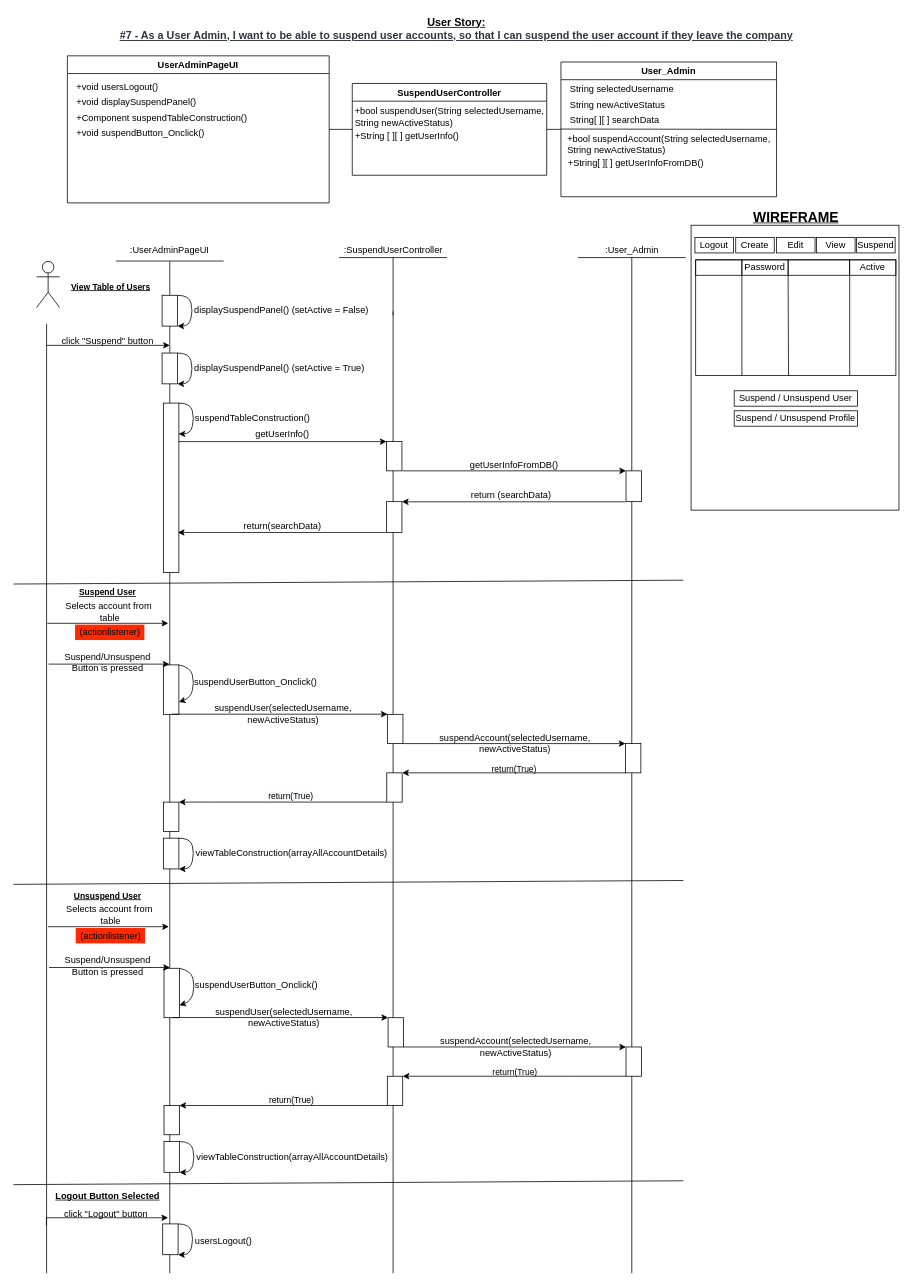
The diagram is 912 pixels wide and 1287 high, and some of its shapes have lost their labels. Each missing label, with the centre of its shape:
"User Admin" belongs at point 48,284.
"User Profile" belongs at point 818,267.
"Username" belongs at point 718,267.
